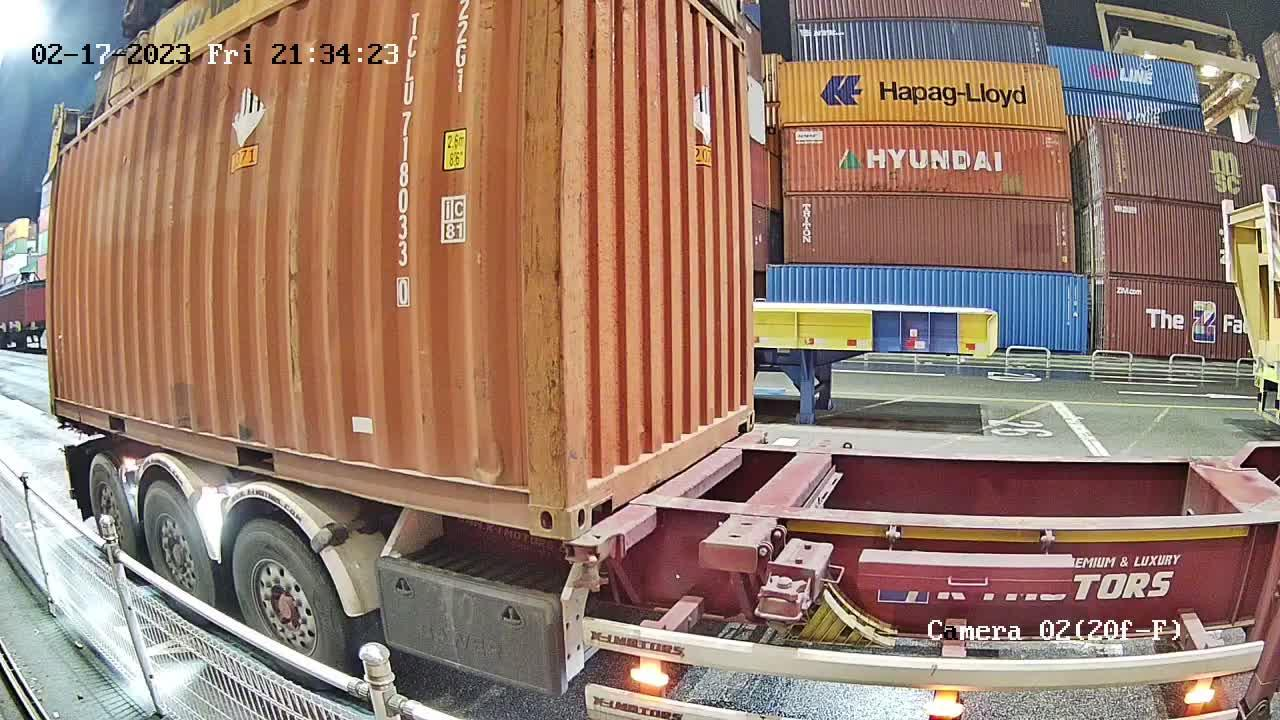Chassis: (572, 427, 770, 561)
Cone: (563, 545, 613, 598)
Hole_L: (572, 454, 618, 539)
Hole_R: (488, 454, 570, 541), (733, 380, 756, 436)
Tire: (231, 520, 349, 692), (143, 486, 215, 628), (89, 458, 132, 569)
